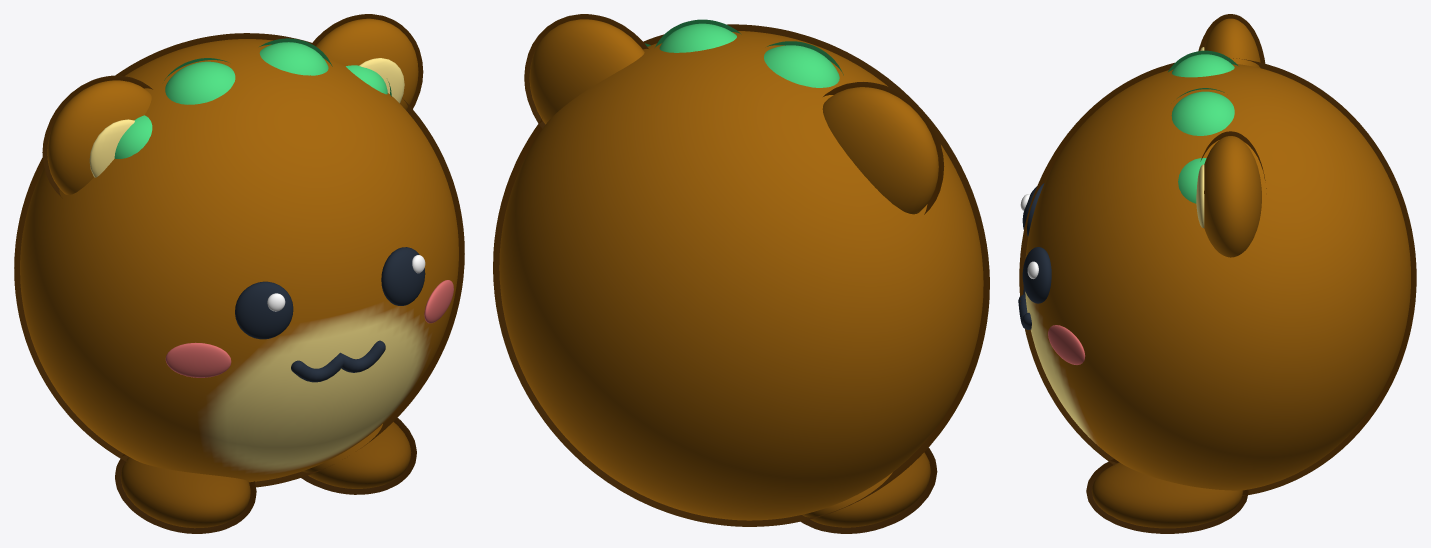
File: moss.glb
3 views of the same model, side by side, from view 1: azimuth 30°, elevation 25°; view 2: azimuth 150°, elevation 25°; view 3: azimuth 270°, elevation 25° (orthographic). The views are drawn at different scales.
Parts seen in each view (by area): view 1: body, foot, ear, foot.001, ear.001, moss.001, eye, moss.002, eye.001, cheek, mouth, ear_inner (+4 smaller); view 2: body, ear, ear.001, foot, moss.001, moss.002; view 3: body, foot.001, ear.001, moss.002, ear, moss.001, eye.001, cheek.001, moss.003, ear_inner.001.
Boxes of the visible parts, box(x1,y1,x2,y2) form: body: box(14, 33, 464, 487); foot: box(115, 454, 256, 533); ear: box(42, 75, 152, 198); foot.001: box(301, 418, 416, 494); ear.001: box(312, 14, 423, 114); moss.001: box(164, 58, 235, 104); eye: box(235, 281, 293, 339); moss.002: box(259, 38, 332, 75); eye.001: box(381, 247, 425, 305); cheek: box(165, 342, 231, 377); mouth: box(291, 340, 385, 382); ear_inner: box(89, 119, 134, 177); body: box(493, 24, 989, 526); ear: box(822, 82, 944, 214); ear.001: box(524, 14, 648, 128); foot: box(794, 447, 937, 533); moss.001: box(764, 41, 843, 87); moss.002: box(655, 19, 741, 52); body: box(1019, 58, 1416, 495); foot.001: box(1086, 458, 1248, 533); ear.001: box(1200, 131, 1266, 257); moss.002: box(1171, 88, 1234, 135); ear: box(1198, 14, 1265, 68); moss.001: box(1168, 50, 1238, 77); eye.001: box(1022, 247, 1051, 303); cheek.001: box(1048, 325, 1085, 364); moss.003: box(1178, 158, 1206, 203); ear_inner.001: box(1196, 164, 1204, 227).
Size of the model in its own units: 1.74 by 1.8 by 1.58.
